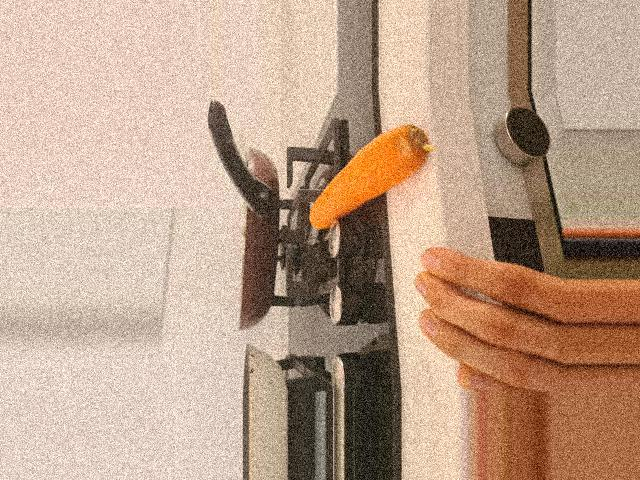carrot: (310, 127, 430, 227)
